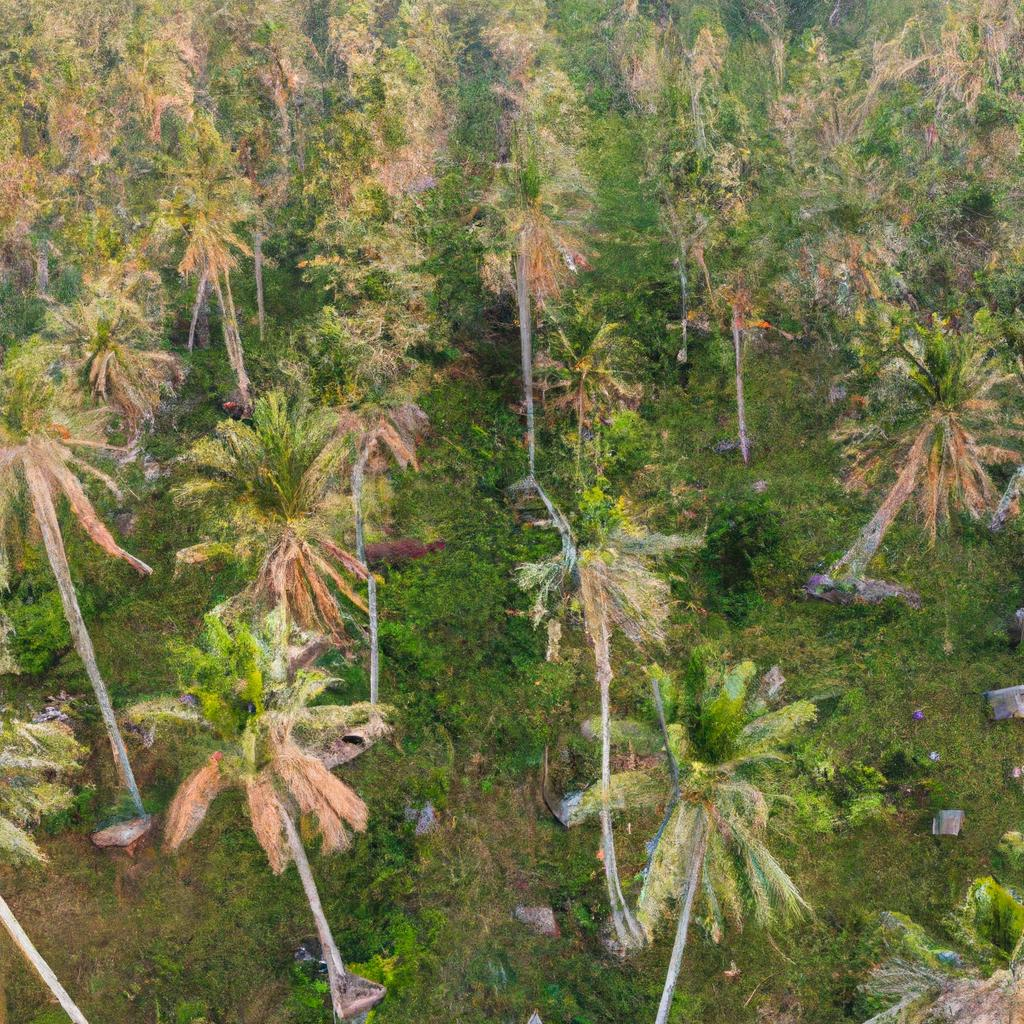coconut_tree: (594, 651, 840, 943), (111, 610, 372, 861), (159, 393, 427, 635), (834, 305, 1023, 548), (512, 469, 728, 661)
